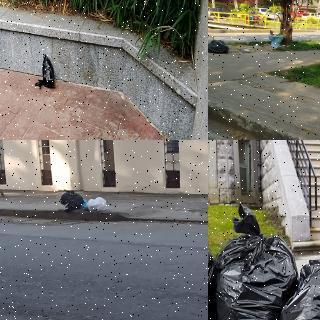Garbage: (211, 201, 295, 320), (282, 248, 320, 320), (35, 53, 60, 91), (58, 190, 84, 212), (208, 36, 232, 55), (87, 197, 109, 212), (81, 200, 90, 211)
